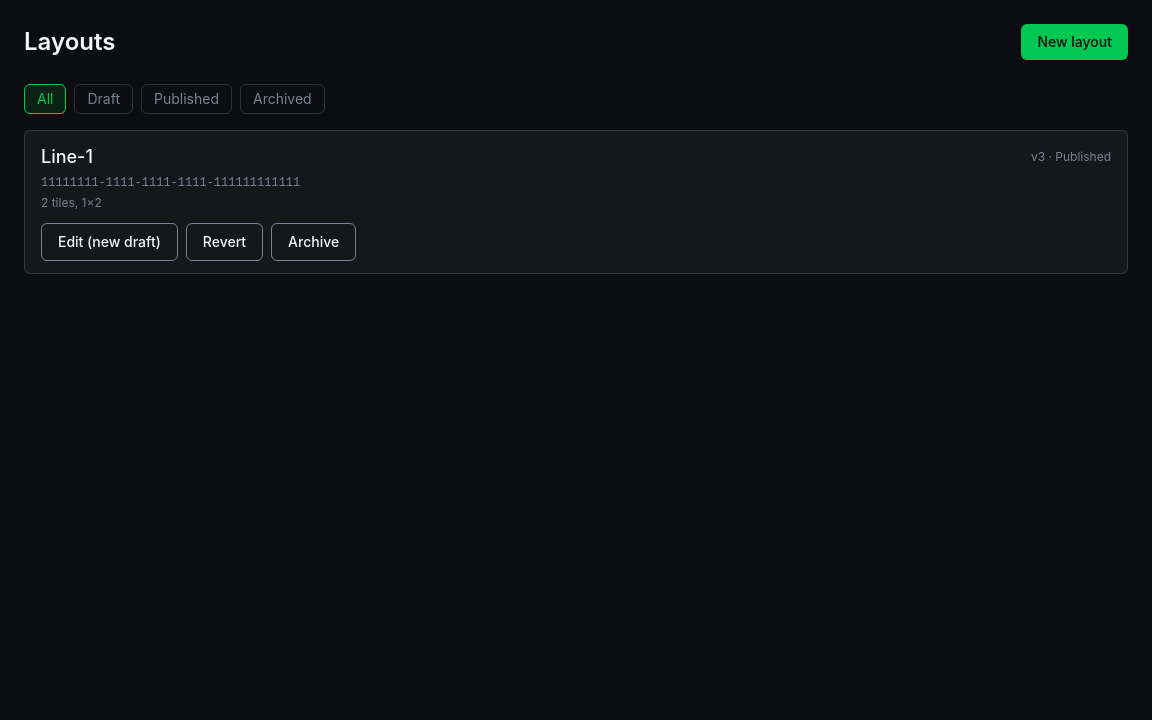
Scenario: LayoutsPage › Clicking Edit on a Published chain branches a draft and opens the editor
Click the button "Edit (new draft)".
click(109, 242)  # box [41,223,178,261]
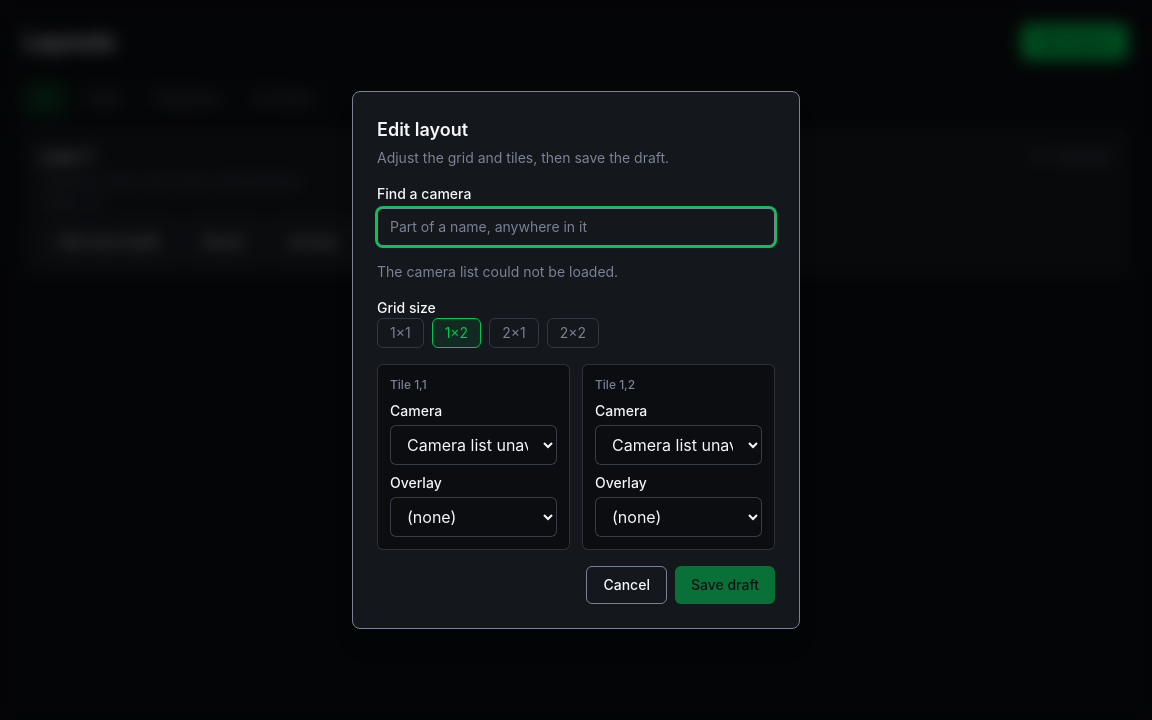
Check: the heading "Edit layout" is shown, box [377,119,468,140]
